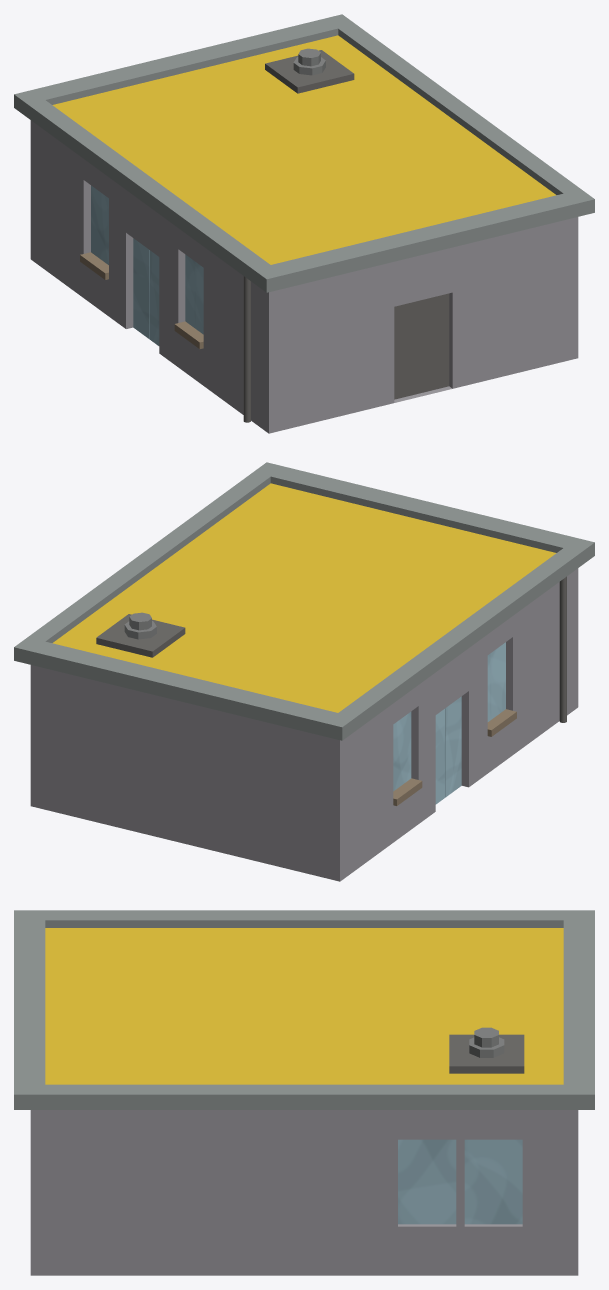
Rendered from TPCS_Store_002_V1.fbx.
The picture shows the model from 3 angles, top to bottom: view 1: azimuth 30°, elevation 25°; view 2: azimuth 150°, elevation 25°; view 3: azimuth 270°, elevation 25°; orthographic projection. The views are drawn at different scales.
Visible parts, largest first — view 1: strore_1.033; view 2: strore_1.033; view 3: strore_1.033.
Boxes of the visible parts, <box> form: strore_1.033: <box>14,14,594,433</box>; strore_1.033: <box>14,462,594,881</box>; strore_1.033: <box>14,910,594,1275</box>.
Size of the model in its own units: 636 by 327 by 849.
